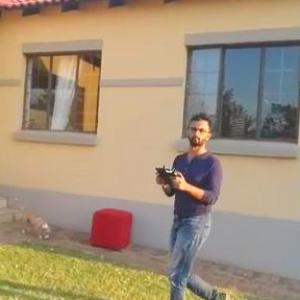follow: (147, 110, 233, 299)
null: (14, 199, 49, 243)
